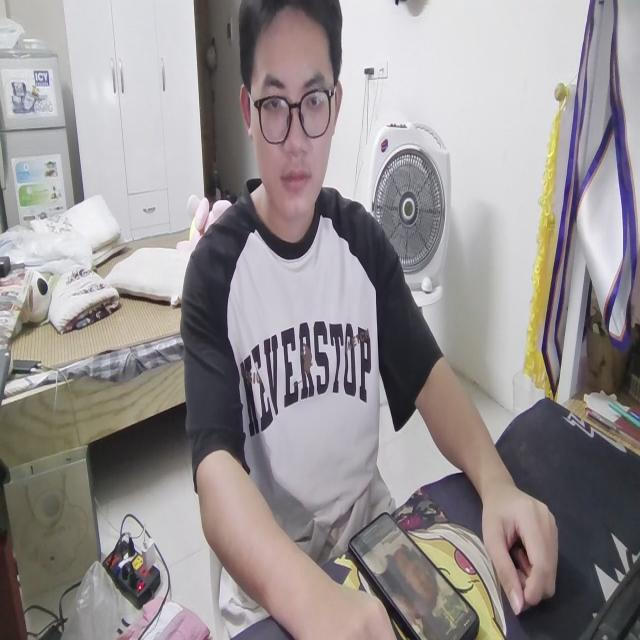phone: (344, 506, 478, 640)
student: (178, 0, 562, 640)
